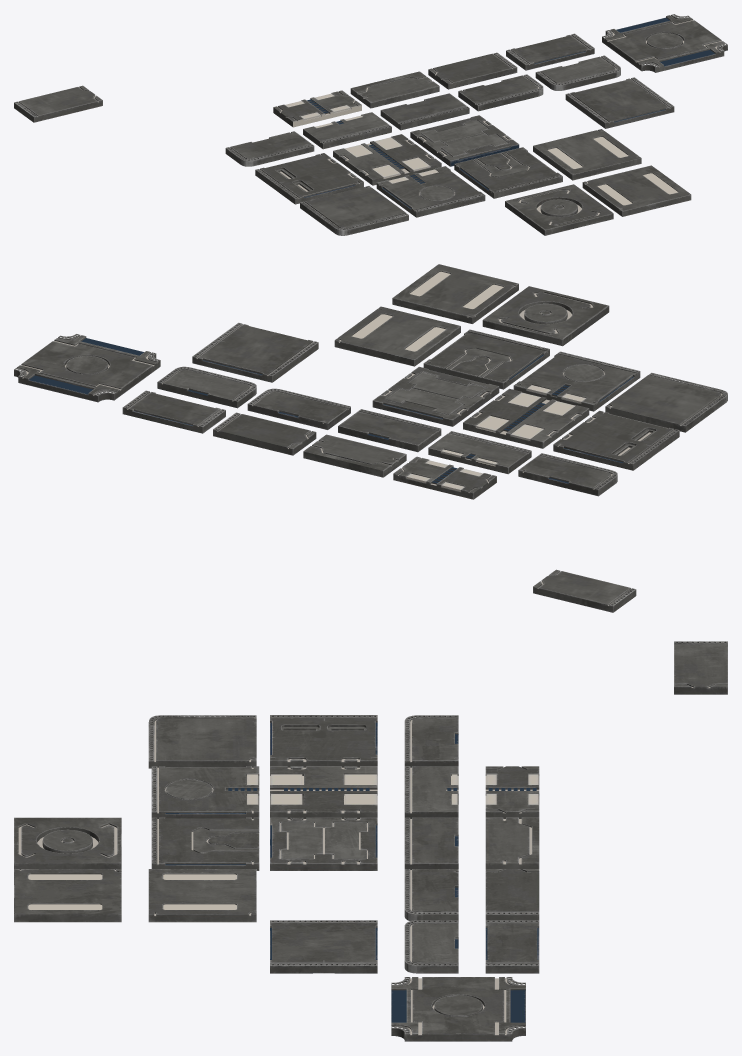
Rendered from floor.glb.
3 renders of one model, top to bottom at view 1: azimuth 30°, elevation 25°; view 2: azimuth 150°, elevation 25°; view 3: azimuth 270°, elevation 25°, orthographic. The views are drawn at different scales.
Visible parts, largest first — view 1: Cube.009, Cube.021, Cube.019, Cube.020, Cube.016, Cube.012, Cube.018, Cube.000, Cube.015, Cube.014, Cube.013, Cube.007 (+9 smaller); view 2: Cube.009, Cube.020, Cube.019, Cube.021, Cube.014, Cube.013, Cube.015, Cube.012, Cube.016, Cube.018, Cube.000, Cube.004 (+9 smaller); view 3: Cube.009, Cube.019, Cube.012, Cube.021, Cube.013, Cube.016, Cube.000, Cube.015, Cube.014, Cube.020, Cube.018, Cube.008 (+9 smaller).
Boxes of the visible parts, box(x1,y1,x2,y2) form: Cube.009: box(602, 14, 727, 72); Cube.021: box(582, 165, 691, 216); Cube.019: box(533, 129, 641, 180); Cube.020: box(505, 184, 613, 235); Cube.016: box(300, 186, 408, 235); Cube.012: box(565, 77, 674, 128); Cube.018: box(454, 147, 562, 198); Cube.000: box(376, 166, 485, 217); Cube.015: box(255, 153, 363, 204); Cube.014: box(333, 134, 441, 185); Cube.013: box(410, 115, 519, 166); Cube.007: box(428, 52, 517, 89); Cube.009: box(14, 334, 160, 402); Cube.020: box(482, 286, 609, 346); Cube.019: box(334, 306, 460, 366); Cube.021: box(392, 264, 518, 323); Cube.014: box(463, 388, 589, 448); Cube.013: box(372, 366, 499, 426); Cube.015: box(553, 410, 679, 470); Cube.012: box(192, 322, 318, 382); Cube.016: box(605, 372, 727, 432); Cube.018: box(423, 329, 549, 389); Cube.000: box(513, 351, 640, 411); Cube.004: box(428, 431, 531, 474); Cube.009: box(391, 977, 525, 1041); Cube.019: box(148, 869, 256, 922); Cube.012: box(270, 920, 377, 973); Cube.021: box(14, 869, 121, 922); Cube.013: box(270, 817, 377, 870); Cube.016: box(148, 715, 256, 768); Cube.000: box(151, 766, 259, 818); Cube.015: box(270, 715, 377, 767); Cube.014: box(270, 766, 377, 818); Cube.020: box(14, 817, 121, 870); Cube.018: box(151, 817, 259, 870); Cube.008: box(485, 920, 539, 973).
Bounding box in the file's own units: 69 × 0.6543 × 53.
1 material, 1 textured.
